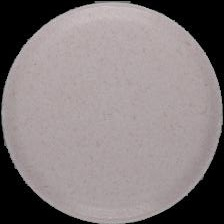43353-850: (0, 0, 224, 224)
